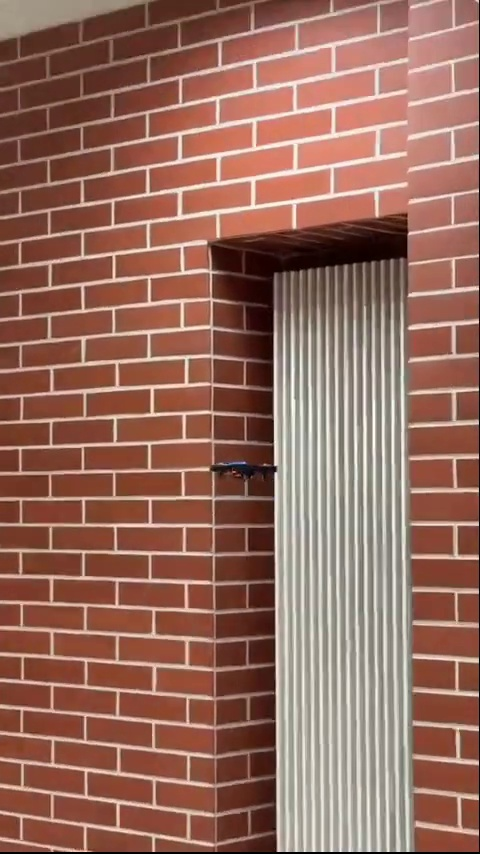drone: (207, 454, 276, 481)
